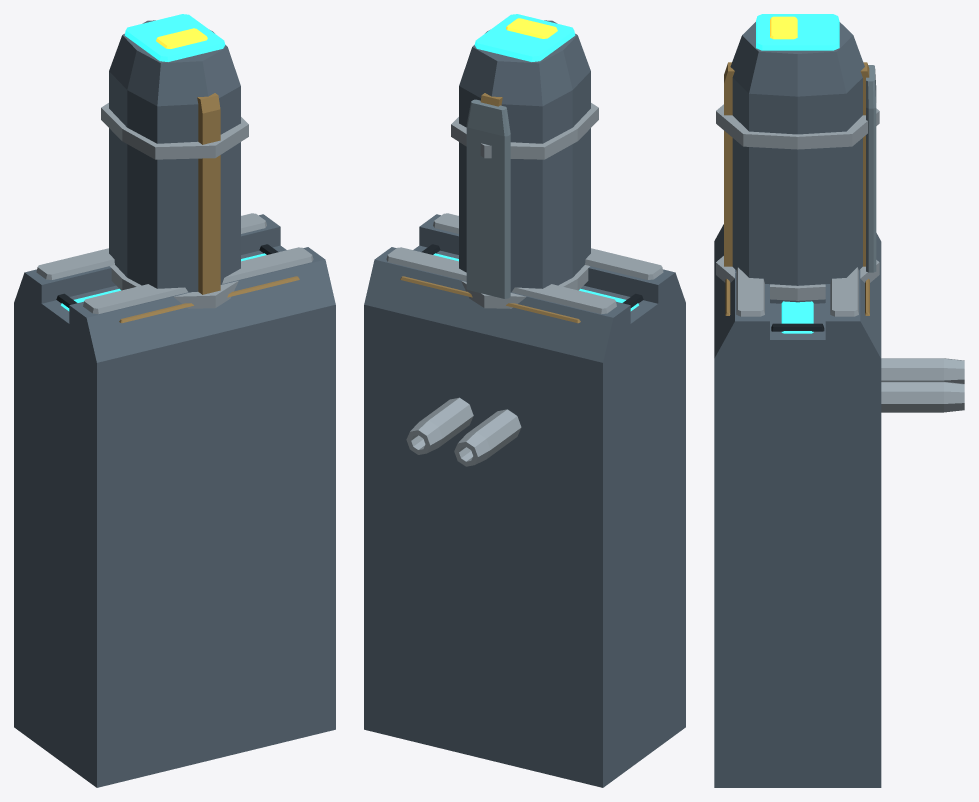
Rendered from esfera-interior.glb.
3 views of the same model, side by side, from view 1: azimuth 30°, elevation 25°; view 2: azimuth 150°, elevation 25°; view 3: azimuth 270°, elevation 25° (orthographic).
Parts seen in each view (by area): view 1: VD_WALL_BODY, VD_GATE_BODY, VD_WALL_ARMOR_-1_0, VD_GATE_PISTON_-1, VD_GATE_COLLAR_-42, VD_GATE_CAP, VD_WALL_ROUTE_-1, VD_GATE_WARNING; view 2: VD_WALL_BODY, VD_GATE_BODY, VD_GATE_SHUTTER, VD_WALL_ARMOR_-1_0, VD_BARREL_-4, VD_GATE_COLLAR_-42, VD_GATE_CAP, VD_WALL_ROUTE_-1, VD_GATE_WARNING; view 3: VD_WALL_BODY, VD_GATE_BODY, VD_BARREL_-4, VD_GATE_COLLAR_-42, VD_GATE_CAP, VD_WALL_ARMOR_-1_0, VD_GATE_PISTON_-1, VD_GATE_SHUTTER, VD_WALL_CHANNEL, VD_GATE_WARNING.
Boxes of the visible parts, x1=… form: VD_WALL_BODY: x1=14, y1=214, x2=335, y2=787; VD_GATE_BODY: x1=109, y1=20, x2=240, y2=292; VD_WALL_ARMOR_-1_0: x1=36, y1=213, x2=313, y2=314; VD_GATE_PISTON_-1: x1=197, y1=93, x2=220, y2=294; VD_GATE_COLLAR_-42: x1=101, y1=103, x2=248, y2=308; VD_GATE_CAP: x1=124, y1=14, x2=225, y2=61; VD_WALL_ROUTE_-1: x1=119, y1=276, x2=299, y2=323; VD_GATE_WARNING: x1=156, y1=28, x2=207, y2=48; VD_WALL_BODY: x1=364, y1=214, x2=685, y2=787; VD_GATE_BODY: x1=459, y1=20, x2=590, y2=291; VD_GATE_SHUTTER: x1=466, y1=99, x2=510, y2=298; VD_WALL_ARMOR_-1_0: x1=386, y1=213, x2=663, y2=314; VD_BARREL_-4: x1=406, y1=397, x2=521, y2=466; VD_GATE_COLLAR_-42: x1=451, y1=103, x2=598, y2=308; VD_GATE_CAP: x1=474, y1=14, x2=575, y2=61; VD_WALL_ROUTE_-1: x1=400, y1=276, x2=580, y2=323; VD_GATE_WARNING: x1=506, y1=18, x2=557, y2=38; VD_WALL_BODY: x1=714, y1=224, x2=881, y2=787; VD_GATE_BODY: x1=730, y1=22, x2=864, y2=303; VD_BARREL_-4: x1=881, y1=358, x2=964, y2=412; VD_GATE_COLLAR_-42: x1=716, y1=104, x2=879, y2=300; VD_GATE_CAP: x1=756, y1=14, x2=839, y2=50; VD_WALL_ARMOR_-1_0: x1=736, y1=267, x2=858, y2=316; VD_GATE_PISTON_-1: x1=724, y1=62, x2=869, y2=266; VD_GATE_SHUTTER: x1=866, y1=65, x2=876, y2=272; VD_WALL_CHANNEL: x1=781, y1=301, x2=813, y2=333; VD_GATE_WARNING: x1=770, y1=16, x2=797, y2=39.
Size of the model in its own units: 40 by 111 by 36.
